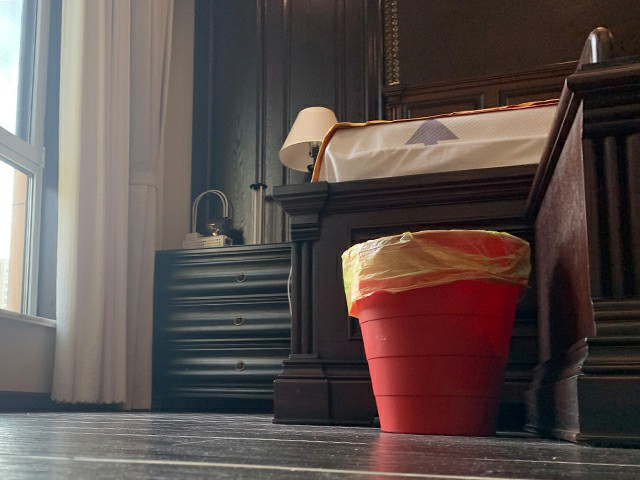bed: (271, 97, 564, 427)
cabinet: (151, 242, 293, 413)
curtain: (51, 1, 174, 410)
trashcan: (340, 229, 533, 437)
